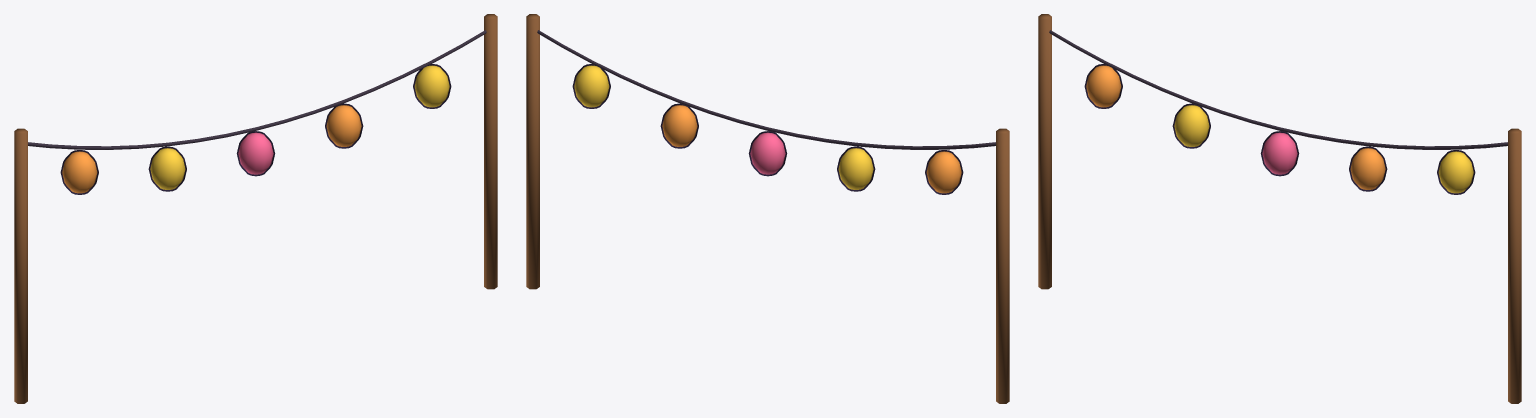
Rendered from deco_lanterns.glb.
3 renders of one model, left to right at view 1: azimuth 30°, elevation 25°; view 2: azimuth 150°, elevation 25°; view 3: azimuth 330°, elevation 25°, orthographic.
Visible parts, largest first — view 1: cyl, cyl.001, string, sphere.001, sphere.003, sphere.002, sphere, sphere.004; view 2: cyl, cyl.001, string, sphere.001, sphere.003, sphere.002, sphere, sphere.004; view 3: cyl.001, cyl, string, sphere.003, sphere.001, sphere.002, sphere.004, sphere.
Part boxes in pixels (x1=…): cyl: x1=14, y1=128, x2=27, y2=403; cyl.001: x1=484, y1=14, x2=497, y2=289; string: x1=28, y1=30, x2=486, y2=149; sphere.001: x1=148, y1=146, x2=186, y2=191; sphere.003: x1=325, y1=103, x2=363, y2=148; sphere.002: x1=236, y1=131, x2=275, y2=176; sphere: x1=60, y1=150, x2=98, y2=194; sphere.004: x1=413, y1=64, x2=451, y2=108; cyl: x1=996, y1=128, x2=1009, y2=403; cyl.001: x1=526, y1=14, x2=539, y2=289; string: x1=537, y1=30, x2=995, y2=149; sphere.001: x1=837, y1=146, x2=875, y2=191; sphere.003: x1=660, y1=103, x2=698, y2=148; sphere.002: x1=748, y1=131, x2=787, y2=176; sphere: x1=925, y1=150, x2=963, y2=194; sphere.004: x1=572, y1=64, x2=610, y2=108; cyl.001: x1=1508, y1=128, x2=1521, y2=403; cyl: x1=1038, y1=14, x2=1051, y2=289; string: x1=1049, y1=30, x2=1507, y2=149; sphere.003: x1=1349, y1=146, x2=1387, y2=191; sphere.001: x1=1172, y1=103, x2=1210, y2=148; sphere.002: x1=1260, y1=131, x2=1299, y2=176; sphere.004: x1=1437, y1=150, x2=1475, y2=194; sphere: x1=1084, y1=64, x2=1122, y2=108.
Bounding box in the file's own units: 4.09 × 2.2 × 0.284.
